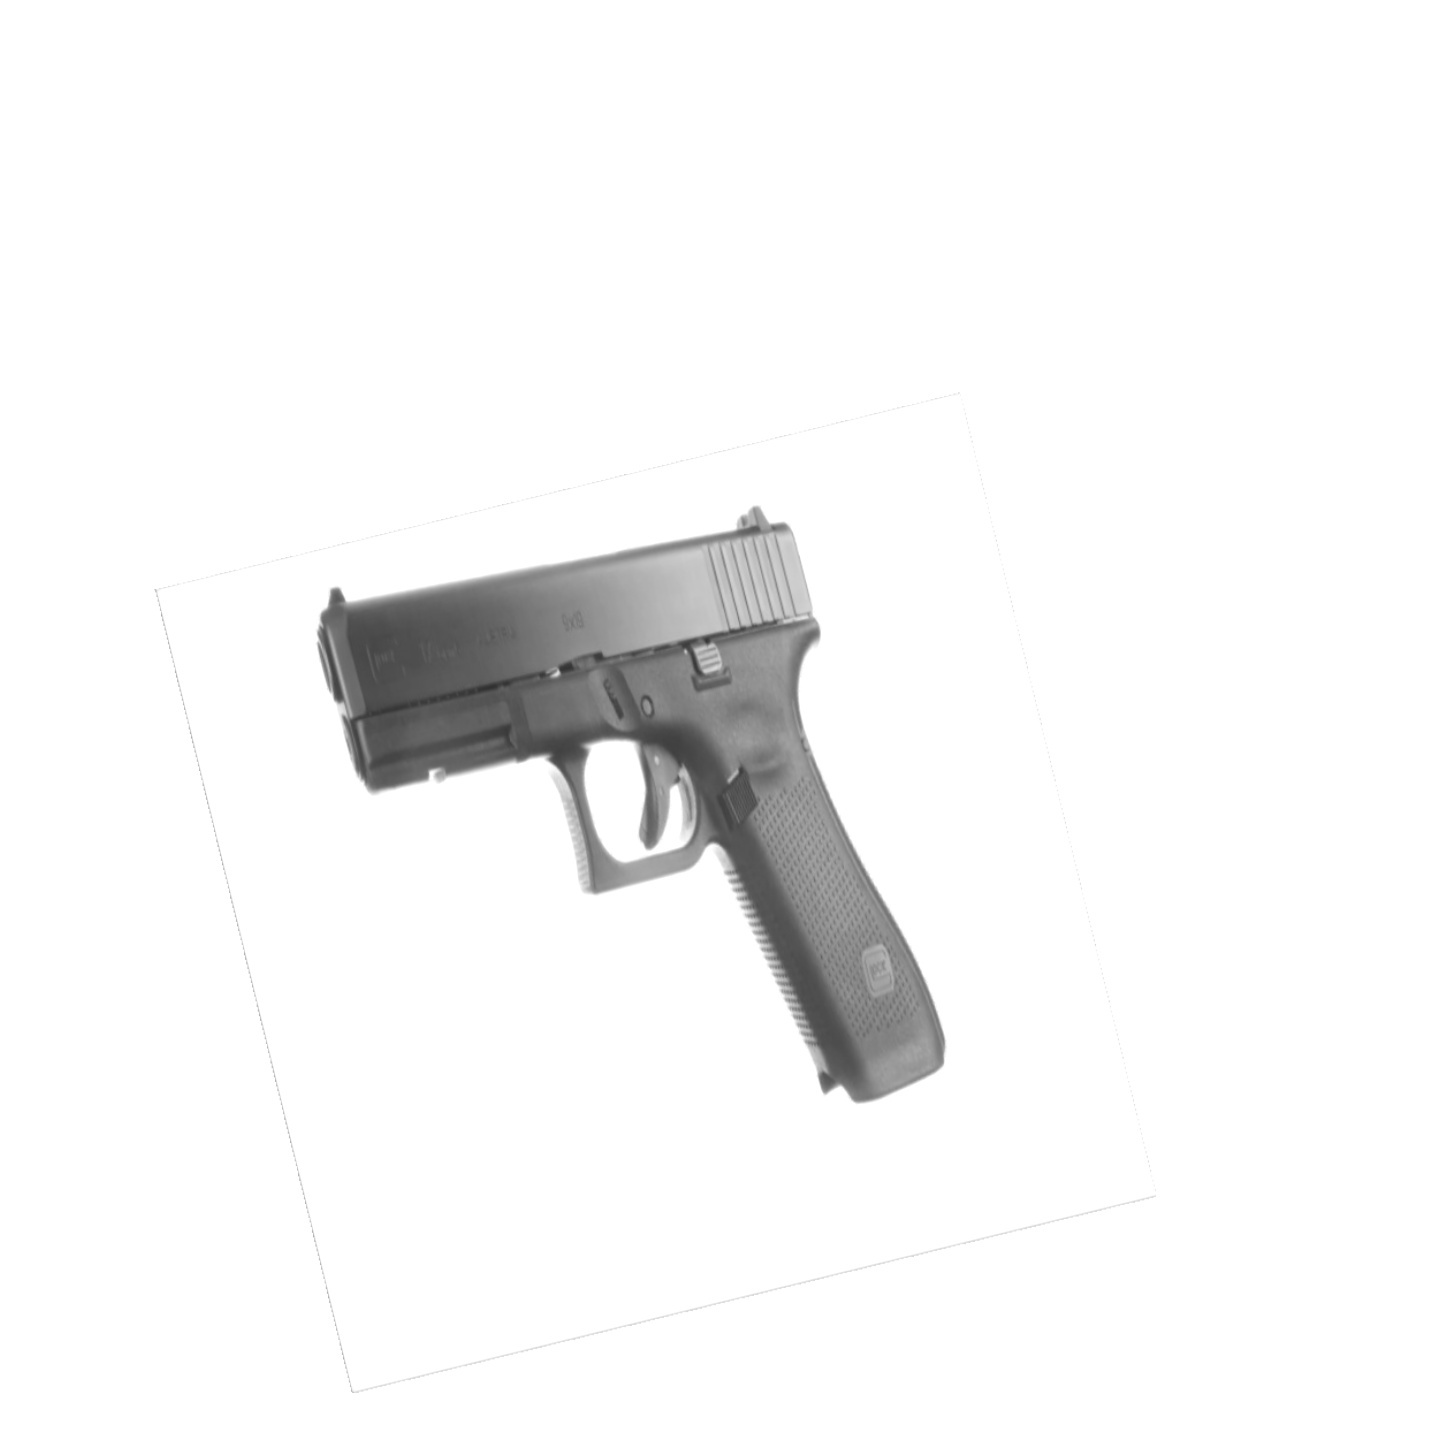gun: (304, 496, 963, 1115)
